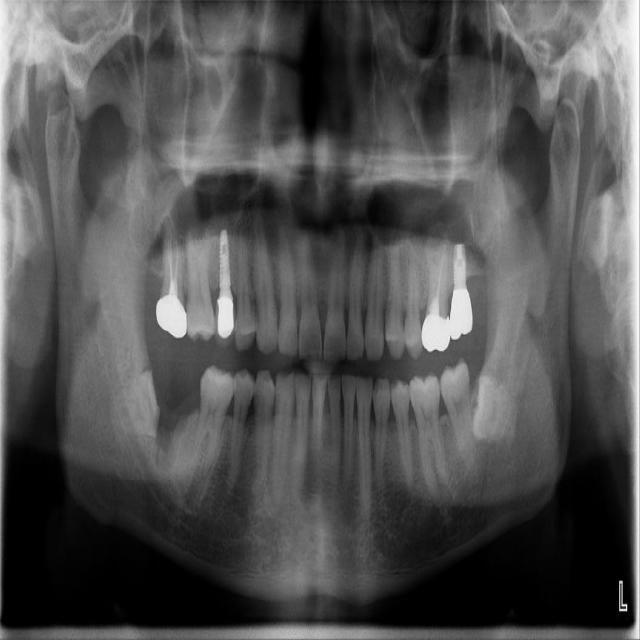52: (420, 303, 453, 354), (212, 295, 238, 350), (156, 294, 187, 339), (448, 288, 473, 341)
73: (154, 215, 186, 311), (425, 231, 450, 319), (589, 588, 596, 602)
Biomet 3i Implant: (467, 373, 519, 448)
Blue Sky Bio Implant: (439, 357, 475, 470)
Caries: (149, 215, 188, 340)
Keystone Dental Implant: (109, 366, 168, 436)
